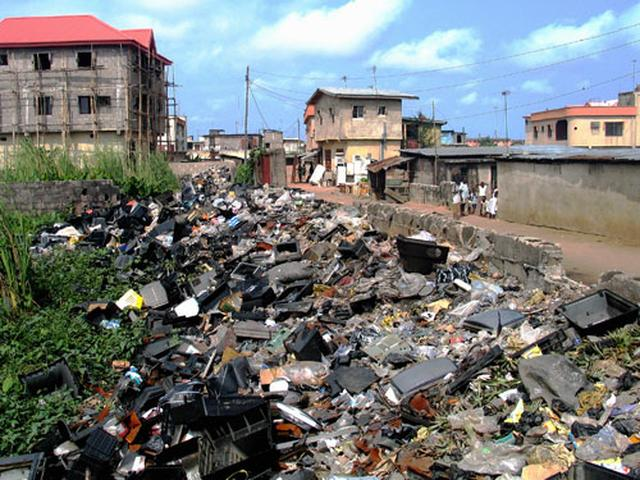garbage: (152, 220, 463, 480), (477, 296, 632, 464)
